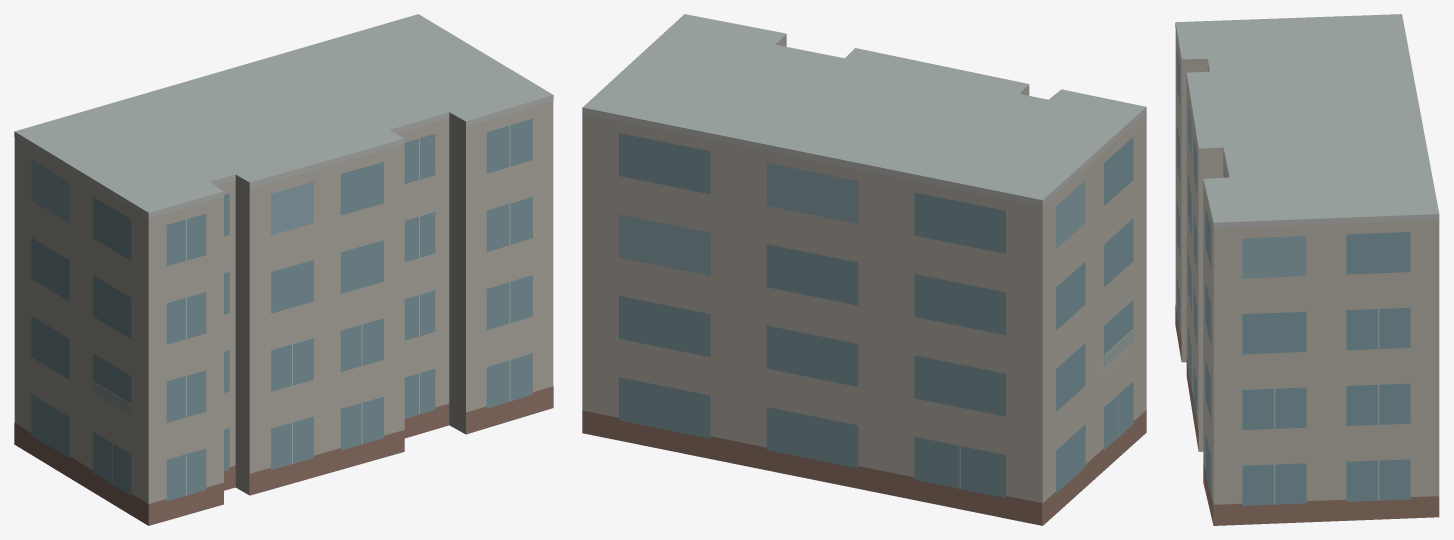
The model's file is survey-upis-32757078.glb.
3 renders of one model, left to right at view 1: azimuth 30°, elevation 25°; view 2: azimuth 150°, elevation 25°; view 3: azimuth 270°, elevation 25°, orthographic. The views are drawn at different scales.
Visible parts, largest first — view 1: survey-upis-32757078.tmp; view 2: survey-upis-32757078.tmp; view 3: survey-upis-32757078.tmp.
Part boxes in pixels (<box>): survey-upis-32757078.tmp: <box>14,14,553,525</box>; survey-upis-32757078.tmp: <box>582,14,1146,525</box>; survey-upis-32757078.tmp: <box>1175,14,1439,525</box>.
Bounding box in the file's own units: 19.35 × 13.1 × 10.34.
